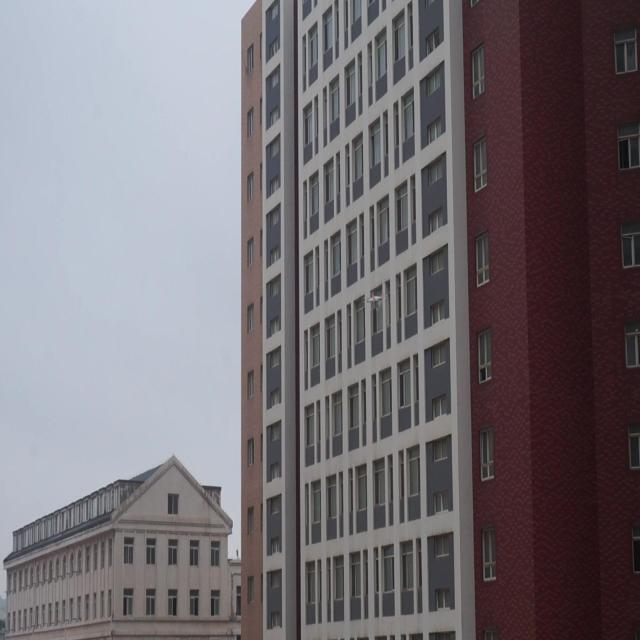drone: (364, 288, 385, 312)
